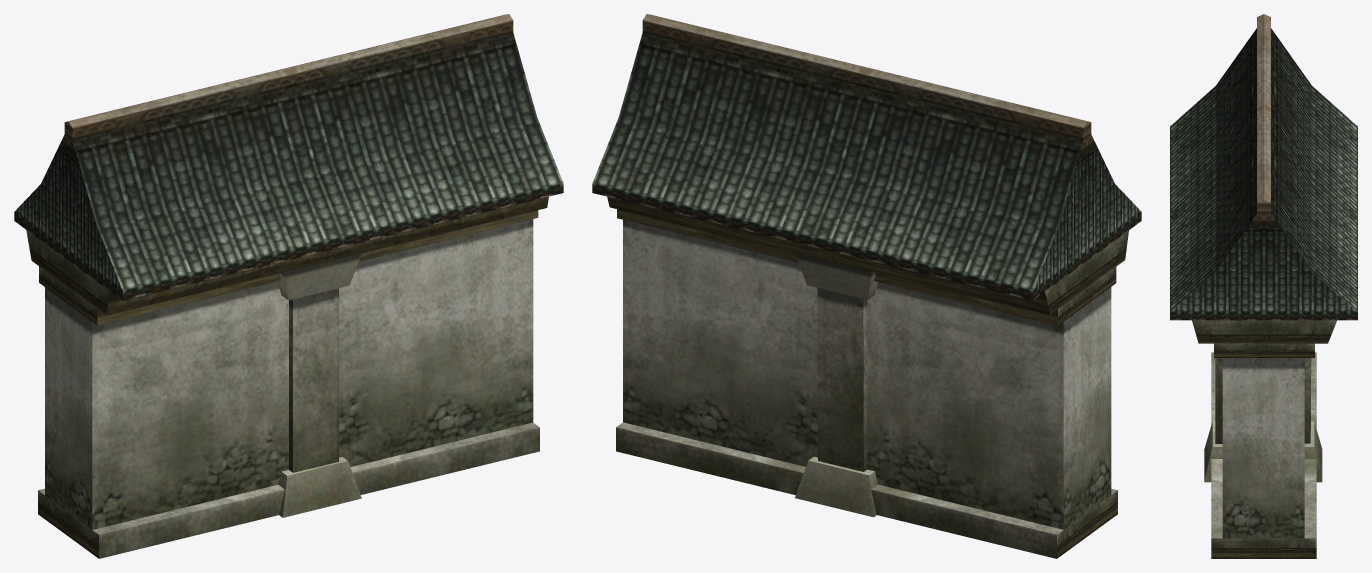
The model's file is ob-10-02-wall-lin.fbx.
3 renders of one model, left to right at view 1: azimuth 30°, elevation 25°; view 2: azimuth 150°, elevation 25°; view 3: azimuth 270°, elevation 25°, orthographic. The views are drawn at different scales.
Visible parts, largest first — view 1: b1-038-wall-lin; view 2: b1-038-wall-lin; view 3: b1-038-wall-lin.
Part boxes in pixels (x1,y1,x2,y2): b1-038-wall-lin: (14, 14, 563, 558); b1-038-wall-lin: (592, 14, 1141, 558); b1-038-wall-lin: (1170, 14, 1357, 558).
Bounding box in the file's own units: 5 × 4.5 × 2.13.
